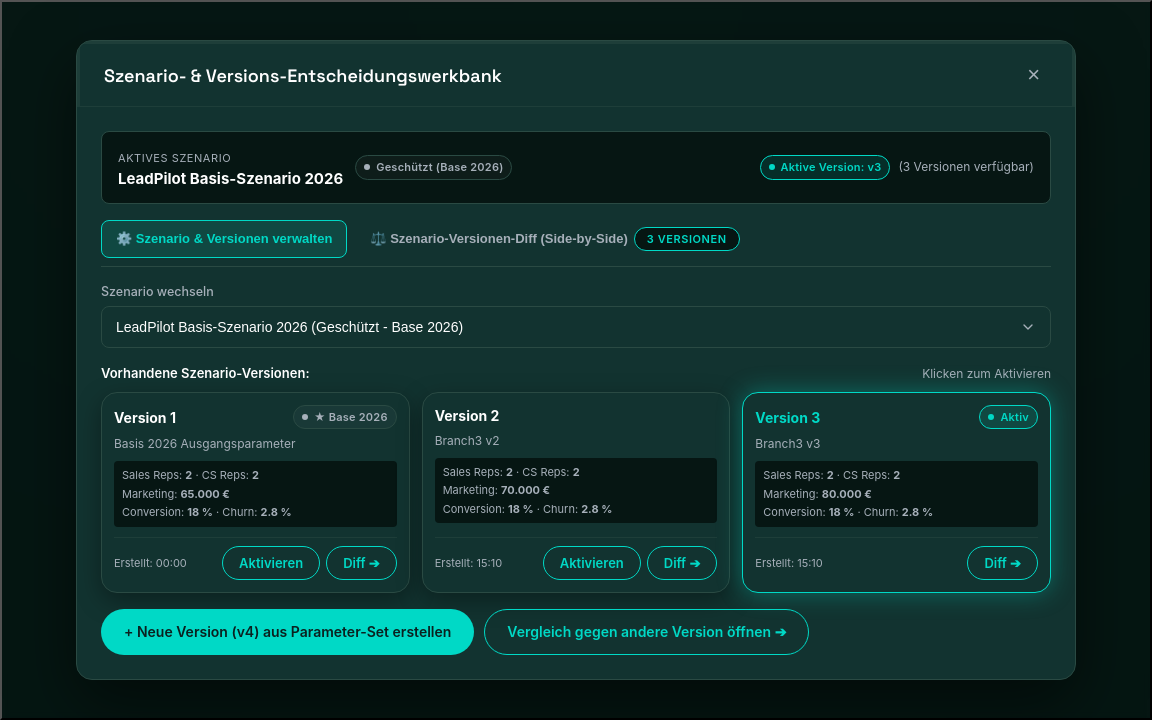
Test: ScenarioManagerModal (branch3) › Vergleich ohne Vorauswahl öffnet den Diff-Tab
Expected: the text "Szenario wechseln" is shown, [101, 284, 214, 299]
Click the button "Vergleich gegen andere Version öffnen ➔".
click(647, 632)  # box [484, 609, 809, 655]
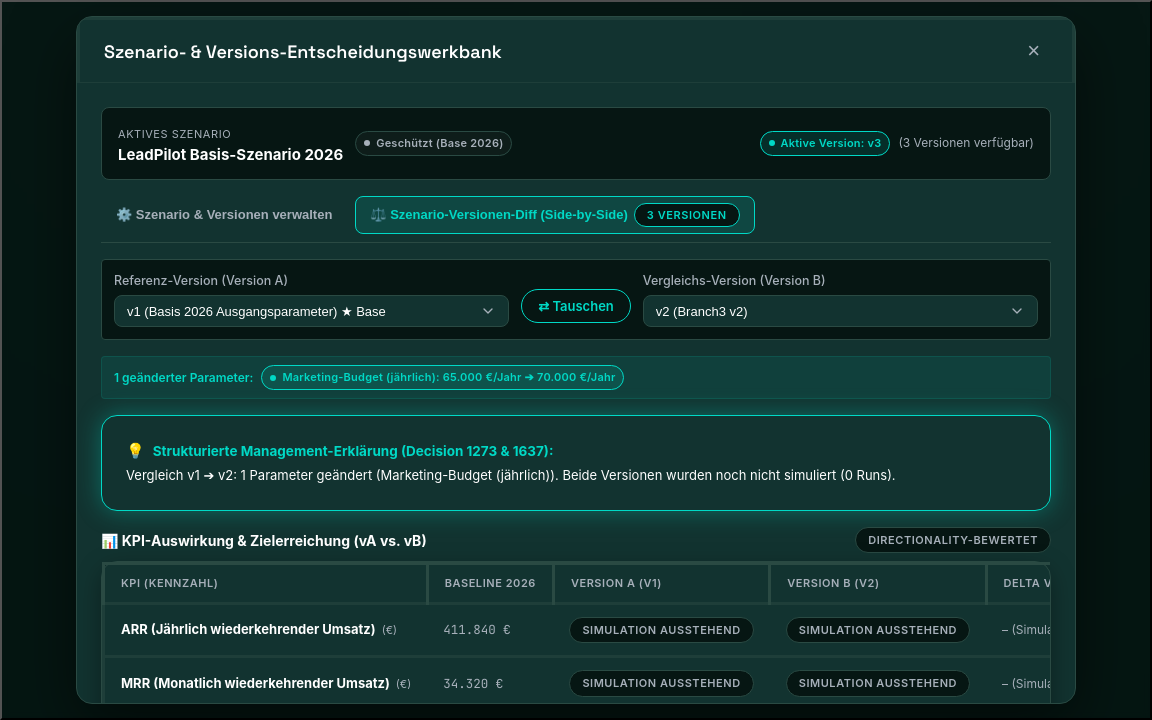
Result: the text "Referenz-Version (Version A)" is shown at [114, 272, 288, 288]
